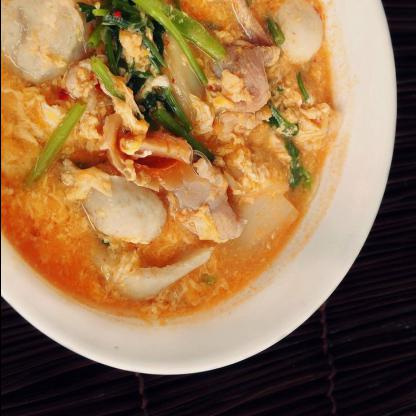Suki: (1, 0, 370, 312)
